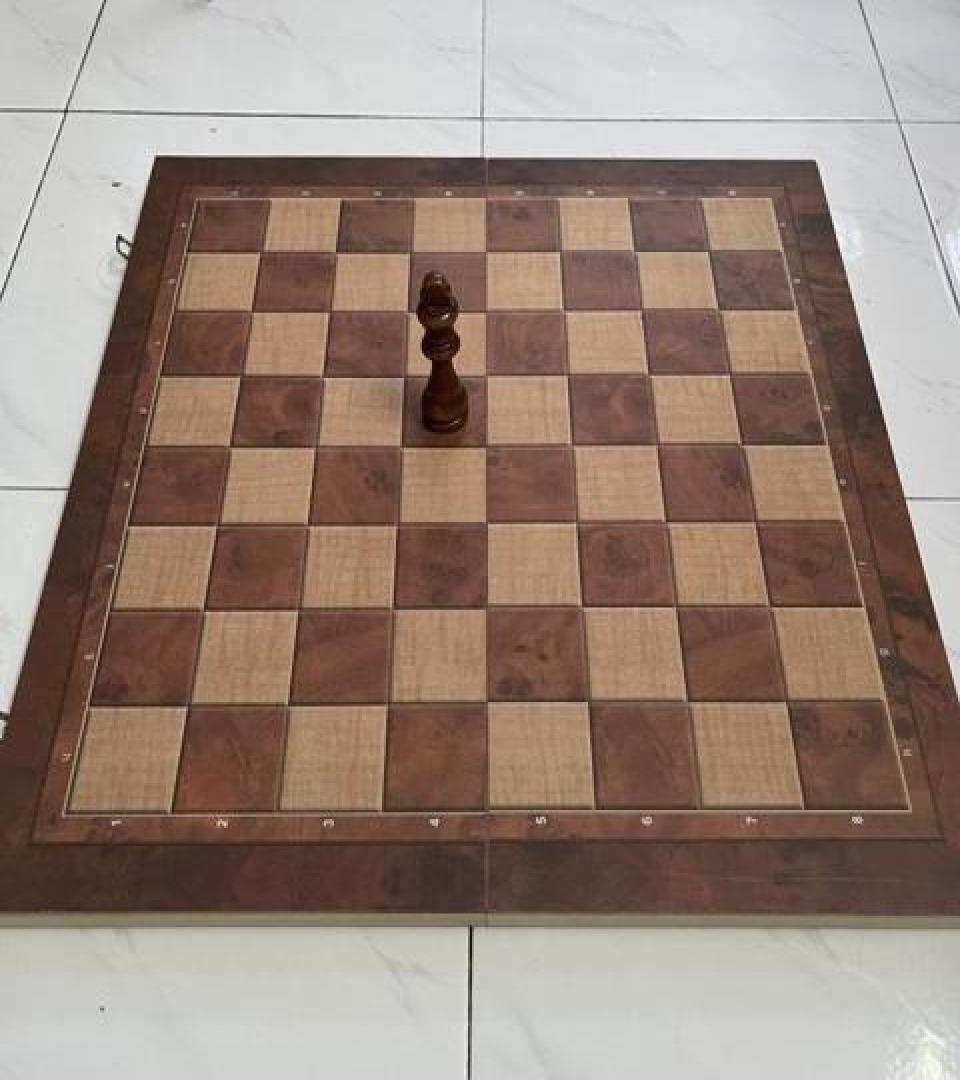xcorner: (688, 228, 724, 269), (711, 352, 747, 393), (629, 352, 665, 393), (548, 352, 584, 393), (467, 352, 503, 393), (385, 352, 421, 393), (304, 352, 340, 393), (222, 352, 258, 393), (659, 586, 695, 627), (565, 586, 601, 627), (470, 586, 506, 627), (375, 586, 411, 627), (281, 586, 317, 627), (186, 586, 222, 627), (614, 230, 650, 270), (539, 230, 575, 270), (465, 230, 501, 270), (390, 230, 426, 270), (316, 230, 352, 270), (241, 230, 277, 270), (699, 288, 735, 328), (621, 288, 657, 328), (544, 288, 580, 328), (466, 288, 502, 328), (388, 288, 424, 328), (310, 288, 346, 328), (232, 288, 268, 328), (724, 422, 760, 462), (638, 422, 674, 462), (553, 422, 589, 462), (468, 422, 504, 462), (382, 423, 418, 463), (297, 423, 333, 463), (211, 423, 247, 463), (738, 500, 774, 540), (648, 500, 684, 540), (558, 500, 594, 540), (469, 500, 505, 540), (379, 501, 415, 541), (289, 501, 325, 541), (199, 501, 235, 541), (753, 585, 789, 625), (771, 681, 807, 721), (671, 681, 707, 721), (571, 682, 607, 722), (471, 682, 507, 722), (371, 682, 407, 722), (271, 682, 307, 722), (171, 682, 207, 722)
